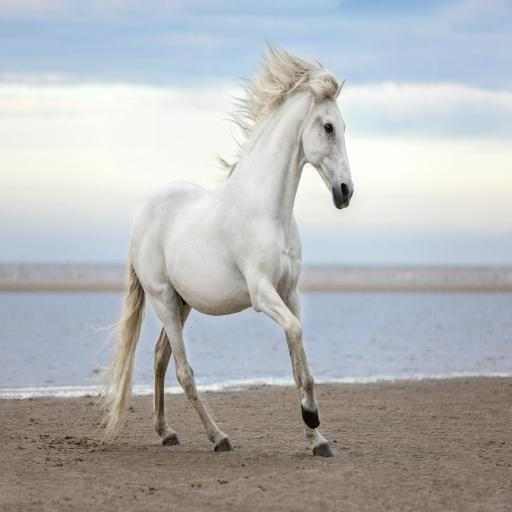horse: (102, 29, 364, 464)
